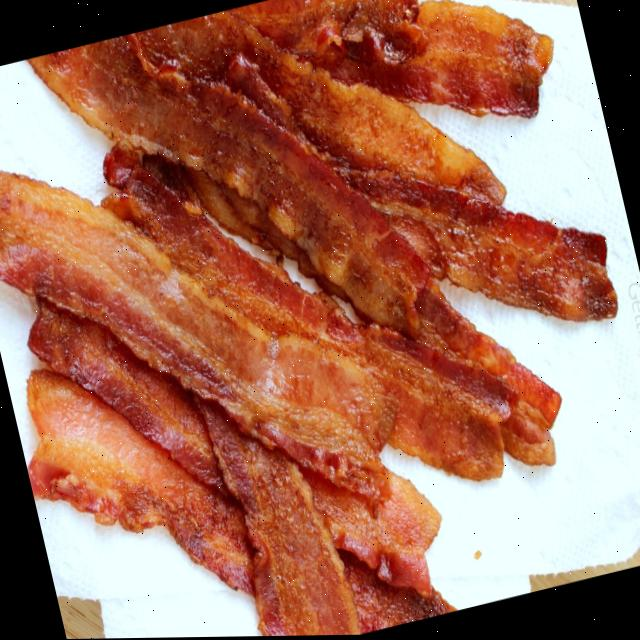Bacon: (0, 169, 515, 499), (0, 172, 395, 495), (31, 37, 429, 340), (26, 369, 253, 595), (349, 171, 615, 323), (194, 398, 358, 637), (28, 299, 225, 493), (231, 0, 552, 119), (262, 51, 504, 207), (414, 281, 560, 466), (301, 469, 440, 598)
